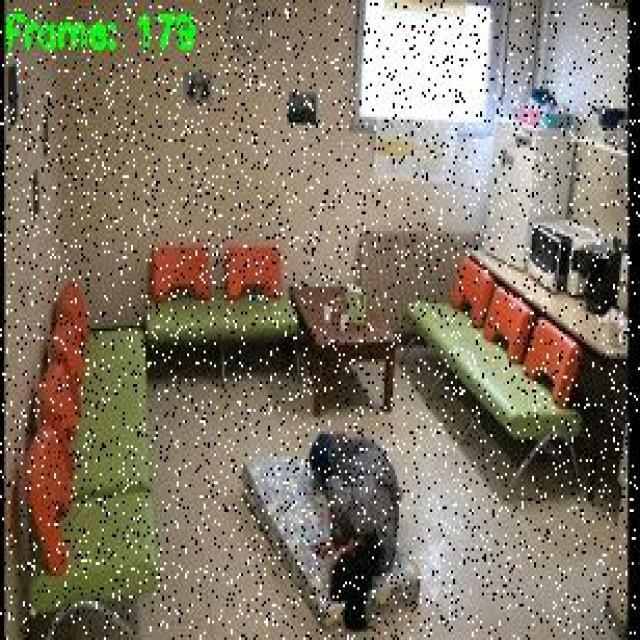fall: (292, 418, 404, 638)
